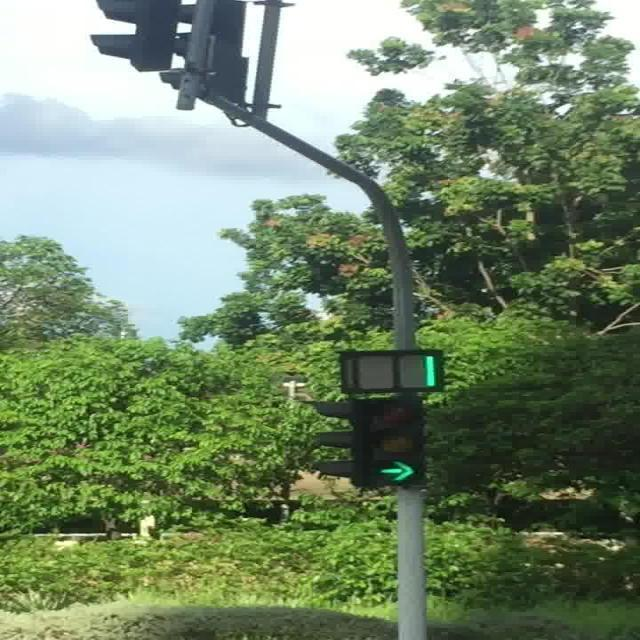green_light: (372, 398, 424, 486)
